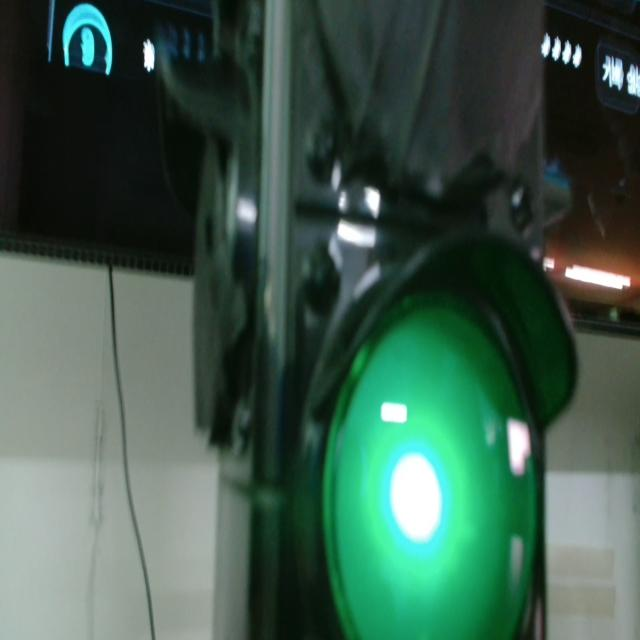green_light: (323, 299, 536, 639), (390, 453, 441, 543)
